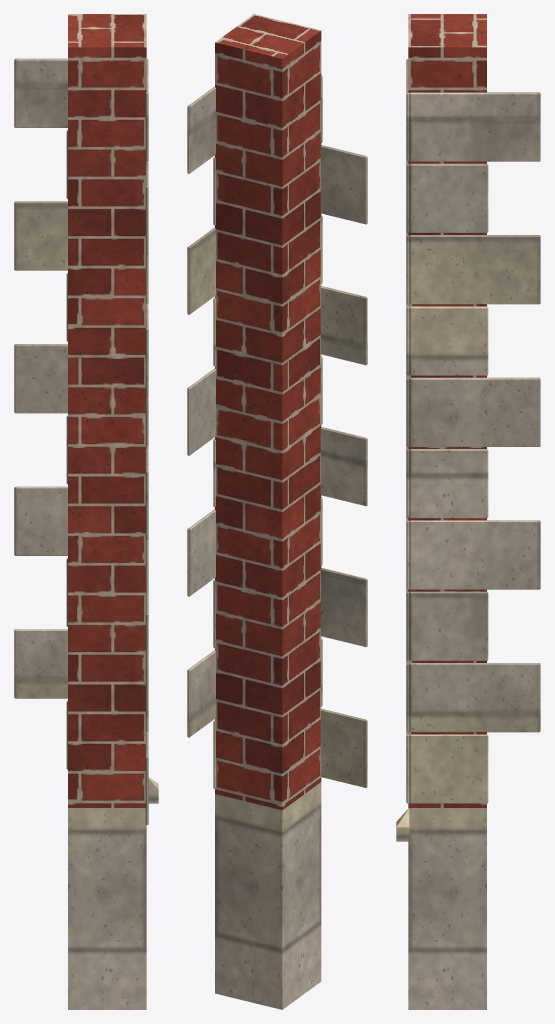
The model's file is corner0.glb.
3 renders of one model, left to right at view 1: azimuth 90°, elevation 25°; view 2: azimuth 150°, elevation 25°; view 3: azimuth 270°, elevation 25°, orthographic.
Parts seen in each view (by area): view 1: corner0_brick, corner0_stone_t; view 2: corner0_brick, corner0_stone_t; view 3: corner0_stone_t, corner0_brick.
Boxes of the visible parts, x1,y1,x2,y2 form: corner0_brick: (68,14,146,807); corner0_stone_t: (14,58,158,1009); corner0_brick: (215,14,321,810); corner0_stone_t: (187,74,367,1009); corner0_stone_t: (396,59,540,1009); corner0_brick: (408,14,486,807).
Bounding box in the file's own units: 0.55 × 4.05 × 0.55.
2 materials, 2 textured.
